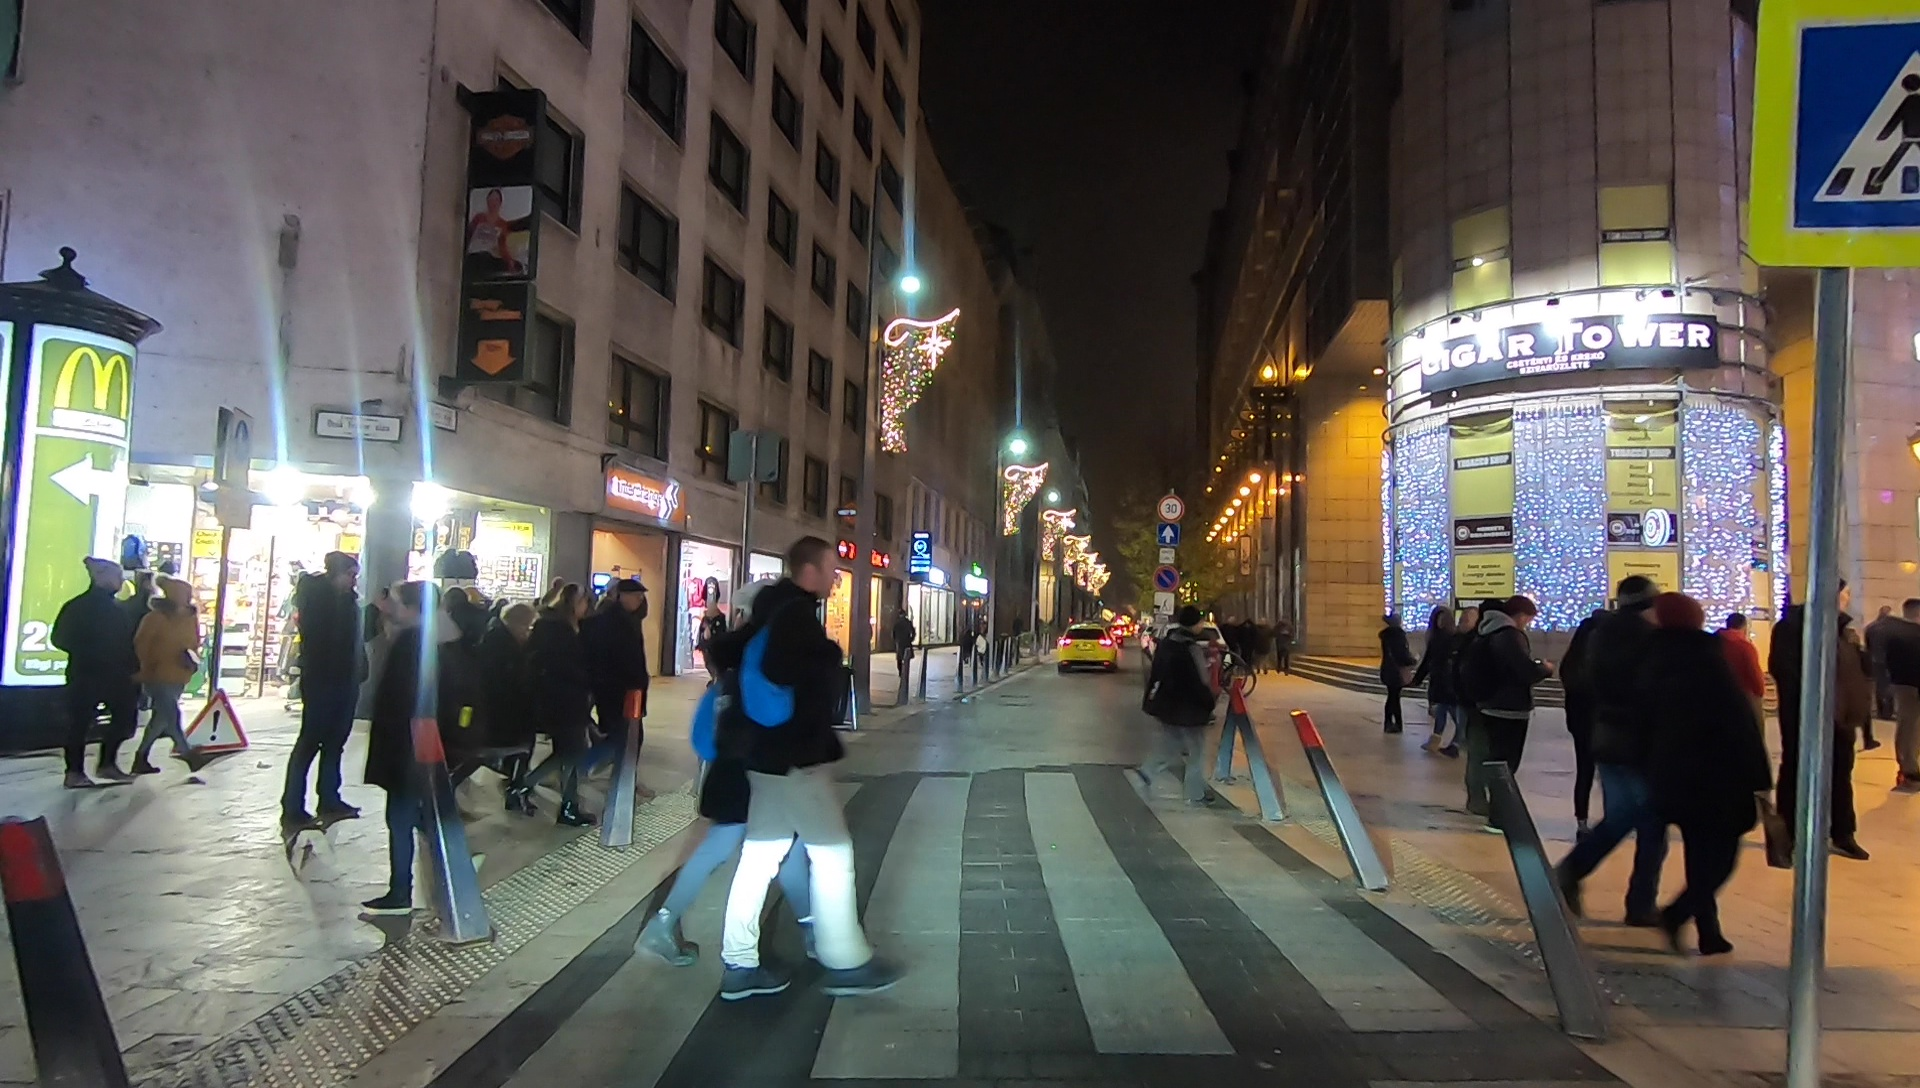person: (634, 556, 832, 969), (721, 537, 899, 995), (1649, 591, 1764, 952), (1565, 580, 1664, 932), (378, 584, 473, 917), (1762, 584, 1862, 860), (278, 556, 365, 834), (1123, 602, 1225, 806), (56, 552, 143, 786), (591, 578, 656, 810), (1471, 597, 1534, 813), (538, 578, 589, 819), (143, 573, 201, 780), (1869, 587, 1920, 792), (491, 599, 538, 815), (449, 587, 486, 824), (1715, 611, 1767, 771), (1373, 613, 1412, 734), (1426, 610, 1454, 747)
